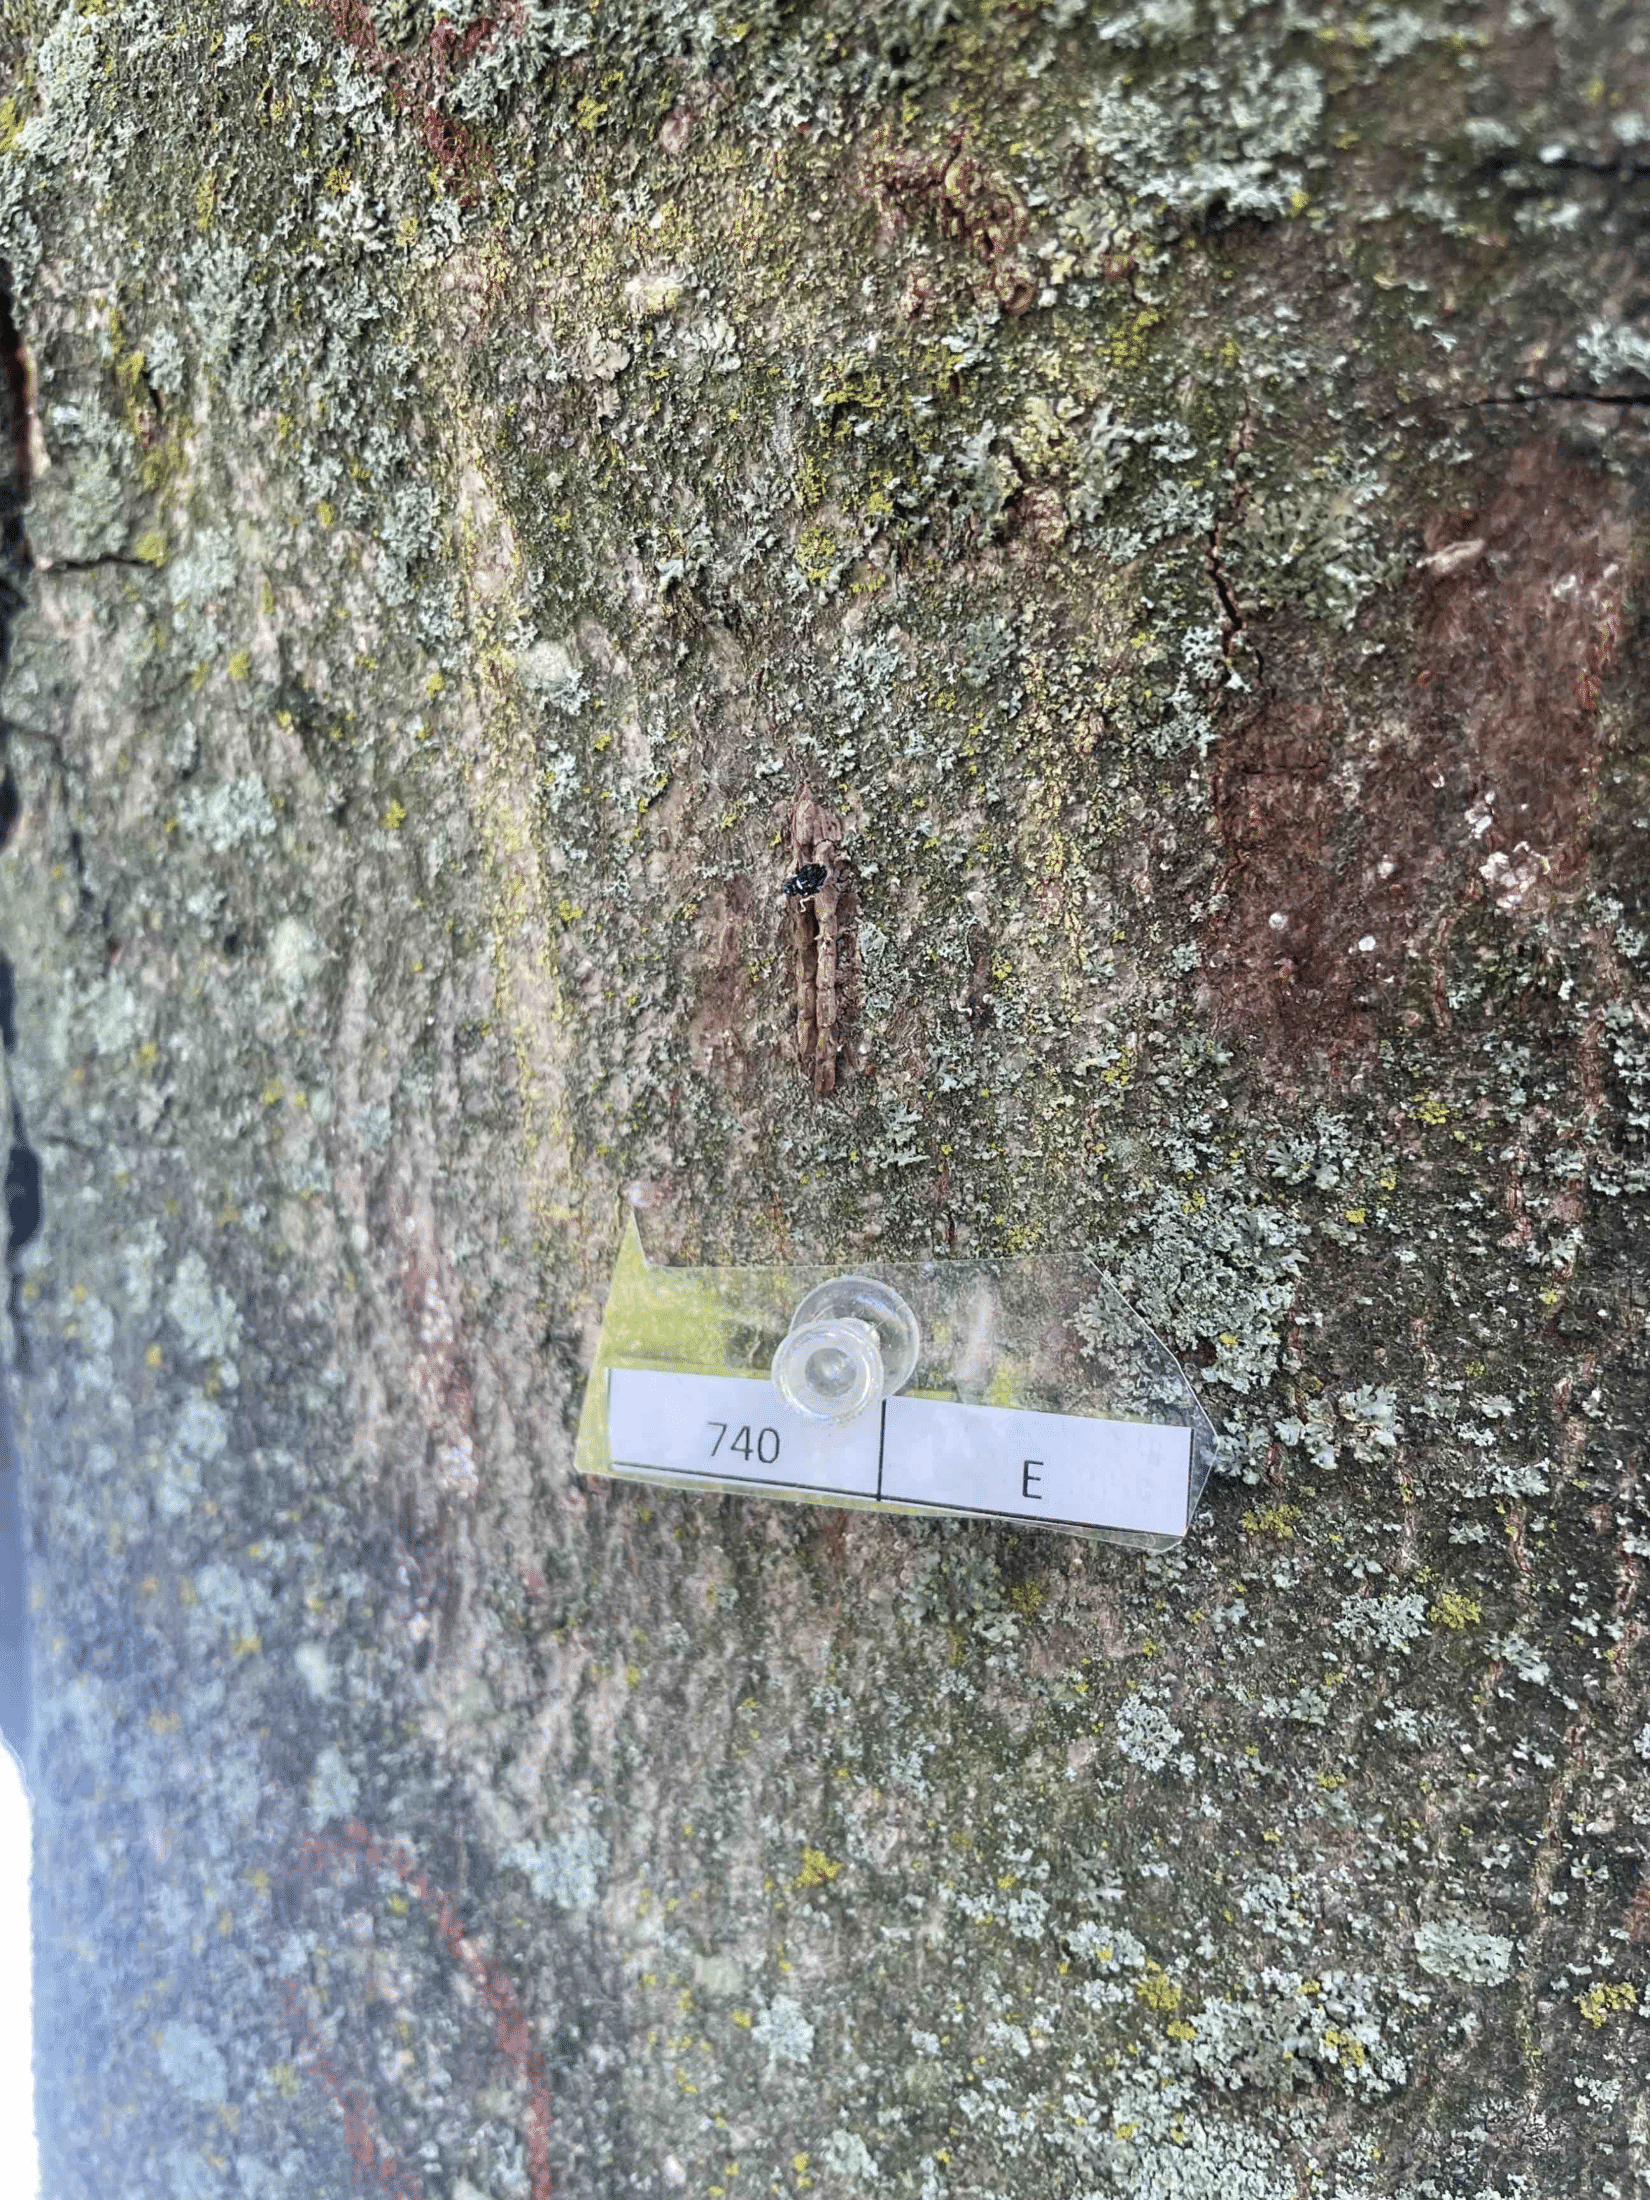egg masses: (749, 786, 858, 1105)
